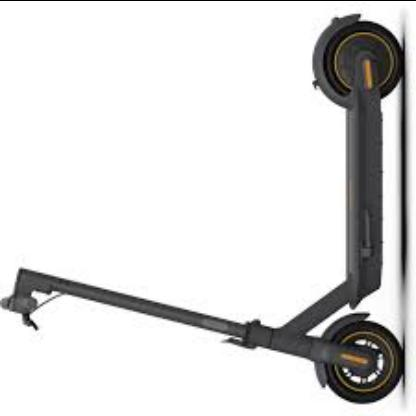bike: (0, 264, 404, 406)
